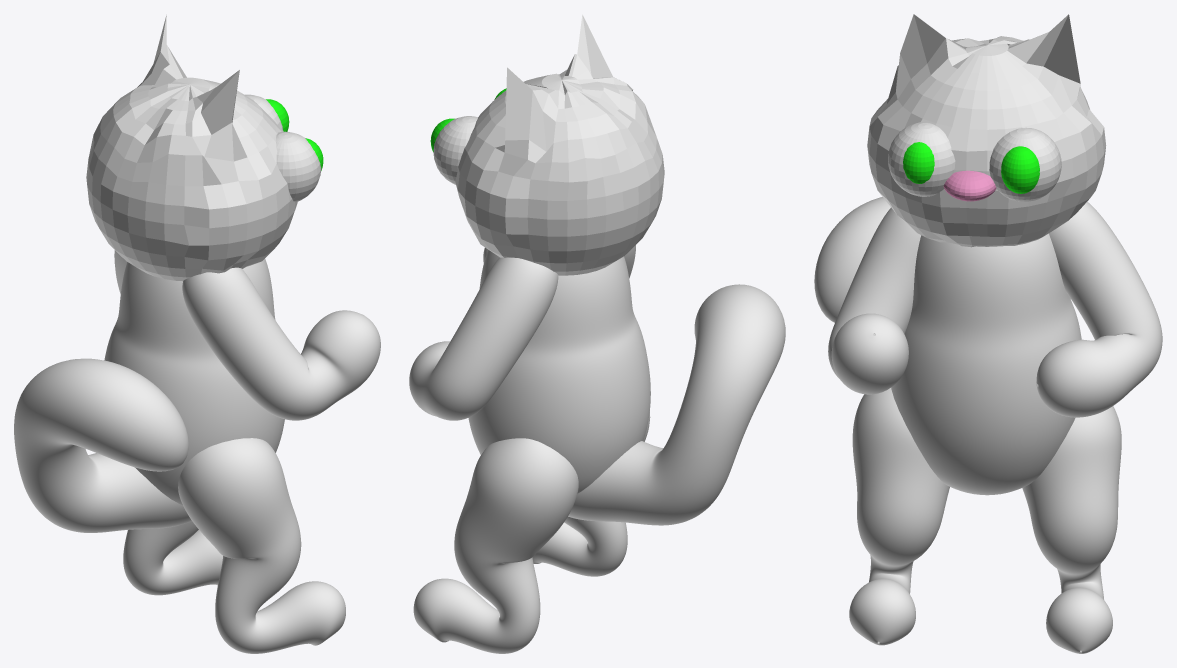
The model's file is cat.fbx.
3 views of the same model, side by side, from view 1: azimuth 30°, elevation 25°; view 2: azimuth 150°, elevation 25°; view 3: azimuth 270°, elevation 25° (orthographic). The views are drawn at different scales.
Parts seen in each view (by area): view 1: Esfera, Curva NURBS.005, Curva NURBS.001, Curva NURBS.003, Curva NURBS, Curva NURBS.004, Esfera.001; view 2: Esfera, Curva NURBS, Curva NURBS.005, Curva NURBS.004, Curva NURBS.002, Curva NURBS.001, Esfera.002; view 3: Curva NURBS, Esfera, Curva NURBS.002, Curva NURBS.001, Curva NURBS.004, Curva NURBS.003, Curva NURBS.005, Esfera.001, Esfera.002, Esfera.005, Esfera.006, Esfera.003.
Part boxes in pixels (box(x1,y1,x2,y2)): Esfera: box(86, 15, 297, 281); Curva NURBS.005: box(14, 358, 191, 532); Curva NURBS.001: box(178, 438, 345, 653); Curva NURBS.003: box(182, 267, 380, 420); Curva NURBS: box(104, 259, 284, 504); Curva NURBS.004: box(123, 521, 222, 595); Esfera.001: box(276, 131, 321, 202); Esfera: box(455, 14, 664, 275); Curva NURBS: box(468, 250, 650, 493); Curva NURBS.005: box(568, 284, 785, 525); Curva NURBS.004: box(413, 438, 578, 653); Curva NURBS.002: box(409, 257, 558, 420); Curva NURBS.001: box(532, 411, 650, 576); Esfera.002: box(433, 116, 477, 184); Curva NURBS: box(891, 233, 1081, 495); Esfera: box(867, 14, 1106, 247); Curva NURBS.002: box(1036, 201, 1162, 417); Curva NURBS.001: box(849, 388, 949, 645); Curva NURBS.004: box(1022, 406, 1121, 653); Curva NURBS.003: box(828, 207, 921, 394); Curva NURBS.005: box(814, 197, 890, 322); Esfera.001: box(888, 122, 955, 196); Esfera.002: box(989, 127, 1061, 201); Esfera.005: box(1001, 146, 1039, 193); Esfera.006: box(943, 170, 996, 201); Esfera.003: box(903, 142, 934, 183).
Size of the model in its own units: 1006 by 1791 by 926.
